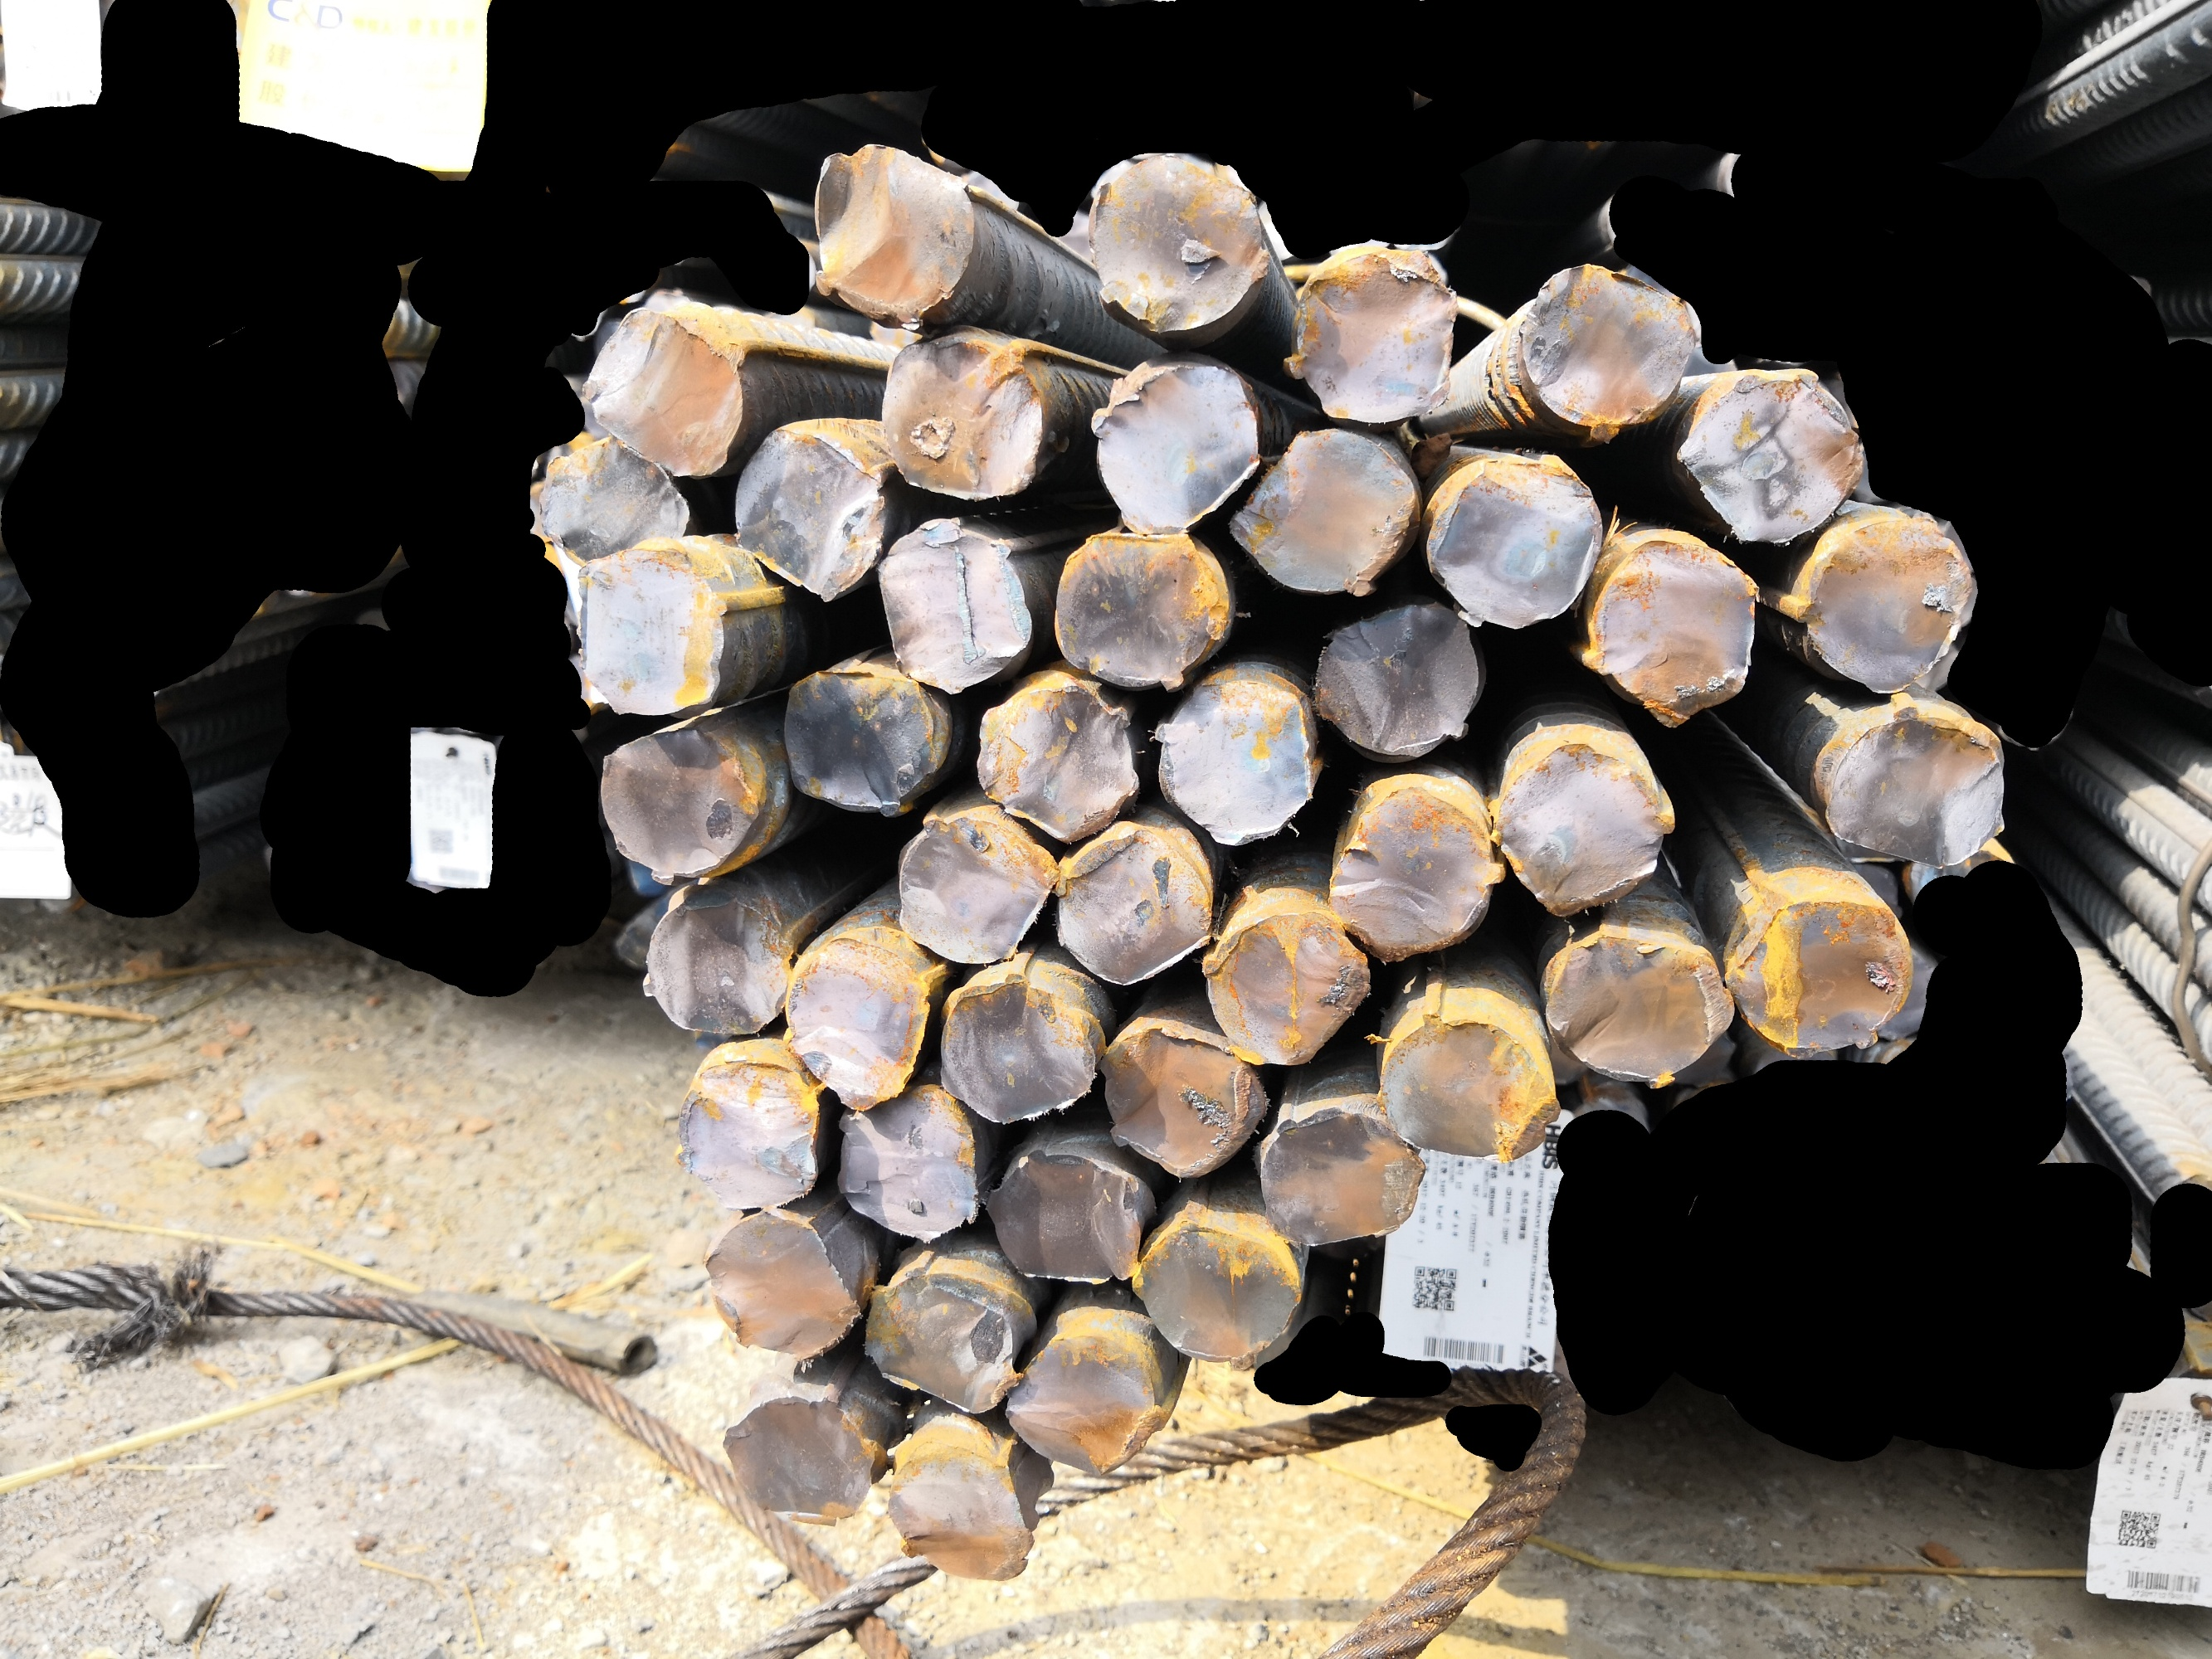rebar: (1675, 364, 1865, 544), (1586, 532, 1759, 728), (1492, 737, 1675, 918), (1426, 451, 1605, 636), (1089, 152, 1271, 333), (1515, 263, 1700, 441), (1823, 701, 2013, 873), (1328, 782, 1508, 962), (1283, 247, 1461, 425), (1799, 514, 1971, 697), (1231, 430, 1419, 598), (811, 138, 976, 328), (1089, 354, 1260, 537), (1544, 931, 1736, 1091), (1729, 894, 1916, 1058), (1051, 532, 1232, 692), (1375, 1006, 1560, 1162), (582, 303, 746, 479), (873, 516, 1032, 695), (882, 333, 1049, 502), (1152, 676, 1318, 847), (570, 544, 730, 720), (1128, 1213, 1304, 1371), (1313, 599, 1483, 760), (598, 723, 763, 887), (976, 681, 1140, 847), (1201, 913, 1374, 1070), (734, 423, 884, 603), (1098, 1025, 1271, 1180), (892, 810, 1060, 967), (786, 934, 931, 1112), (1055, 826, 1211, 988), (933, 972, 1098, 1126), (704, 1202, 863, 1361), (861, 1263, 1020, 1417), (831, 1084, 983, 1244), (1257, 1108, 1429, 1248), (783, 666, 940, 819), (1002, 1331, 1161, 1480), (675, 1054, 821, 1209), (640, 892, 793, 1039), (720, 1389, 879, 1530), (983, 1145, 1142, 1286), (885, 1439, 1037, 1586), (535, 434, 697, 565)
